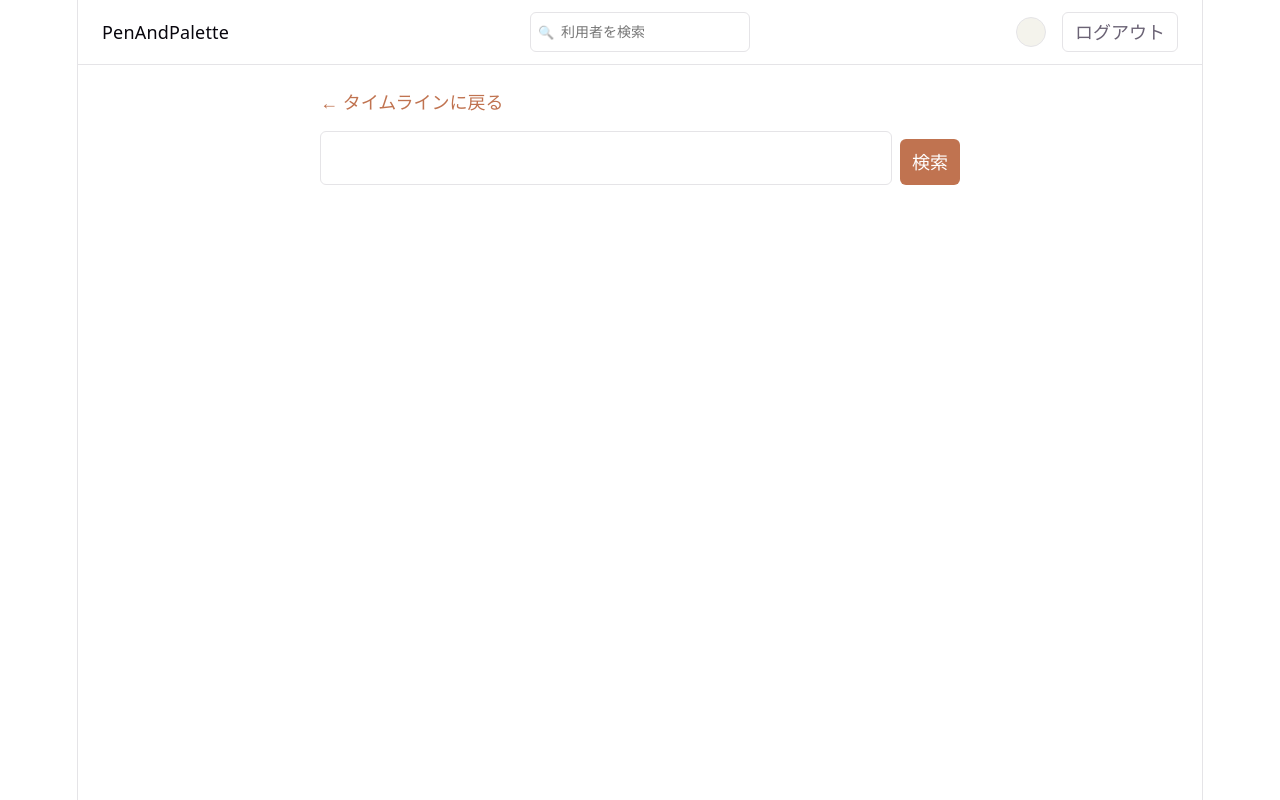
Test: UserSearchView › キーワードを入力して検索ボタンを押すとGET /api/users/?qで検索する
Type "次郎" into the field with test id "user-search-keyword".
click(606, 158); type("次郎")  # box [320,131,892,185]
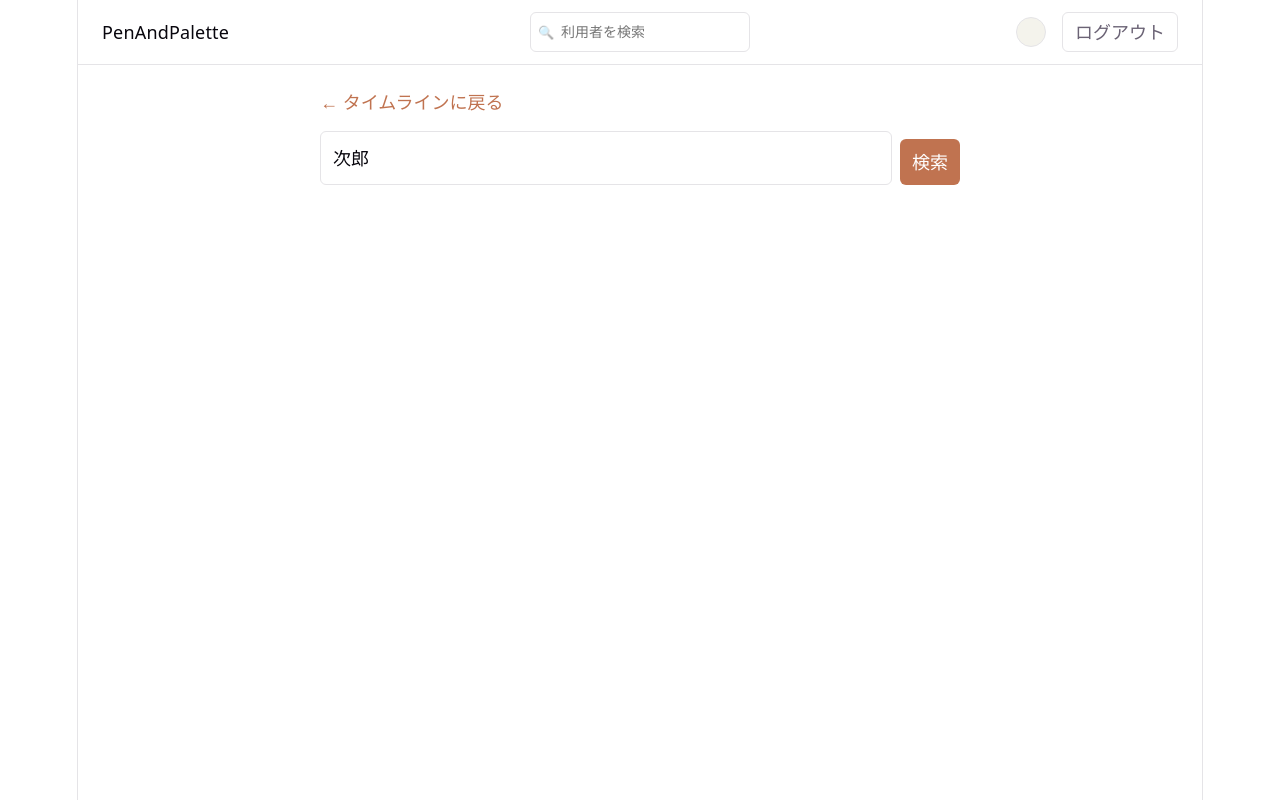
Click the button with test id "user-search-submit".
click(930, 162)  # box [900,139,960,185]
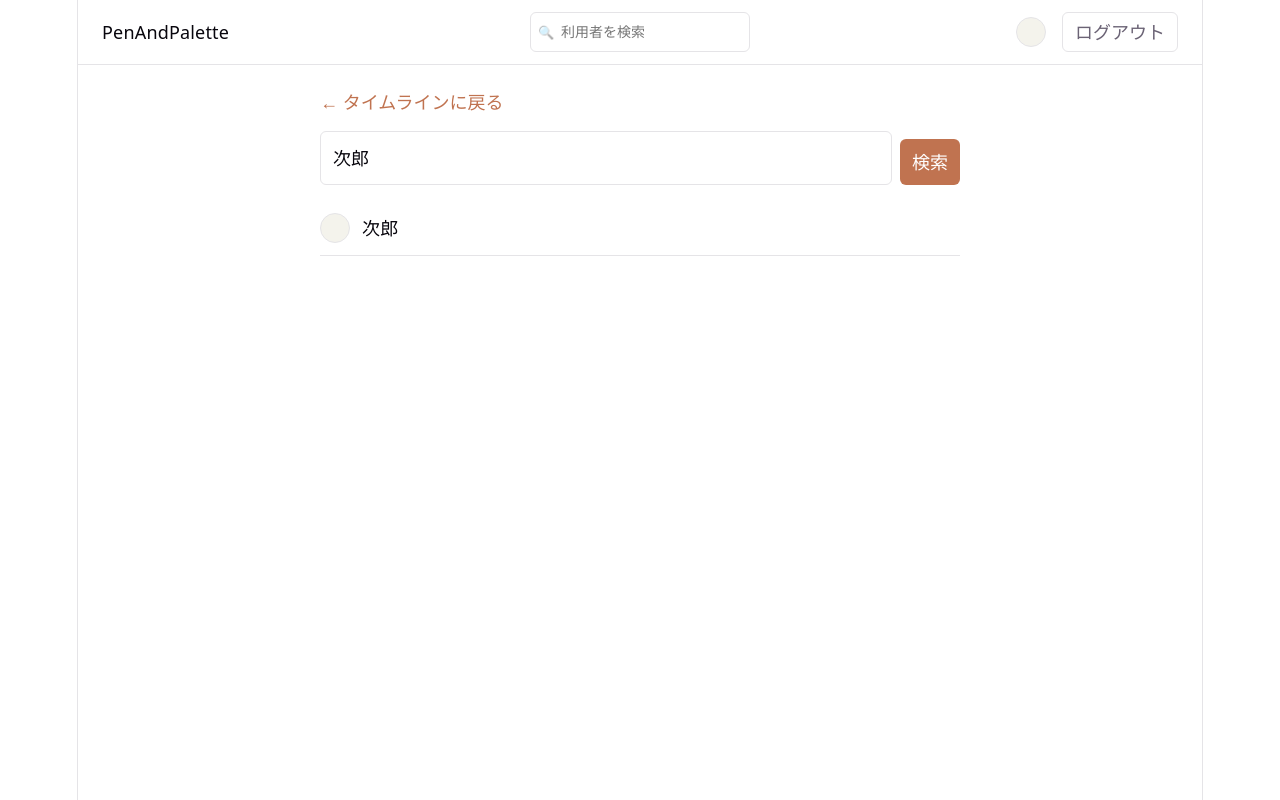
Expected: the link with test id "user-search-item-2" reads "次郎", [320,201,960,256]
